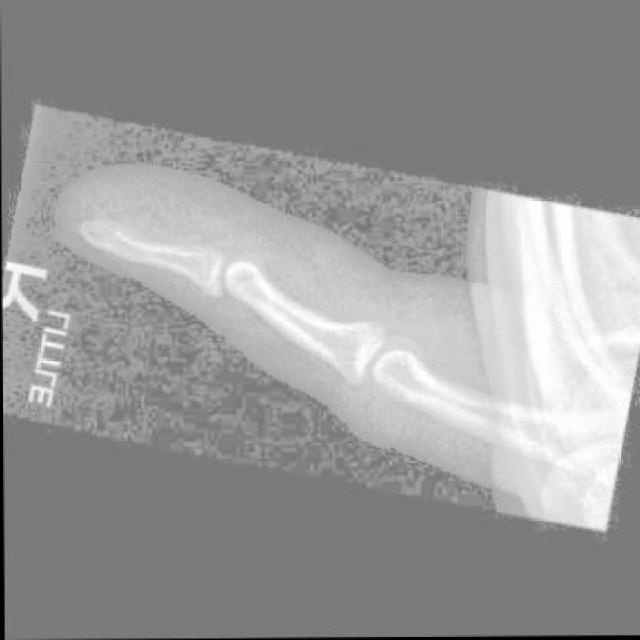Fracture: (114, 219, 168, 272)
